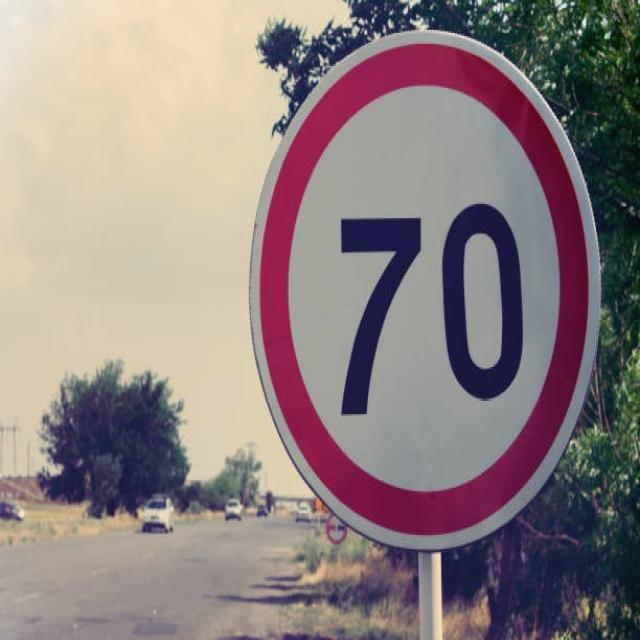speed_limit_70: (242, 26, 604, 553)
